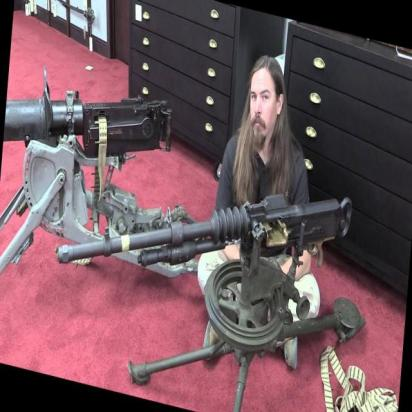Gun: (61, 189, 354, 289)
